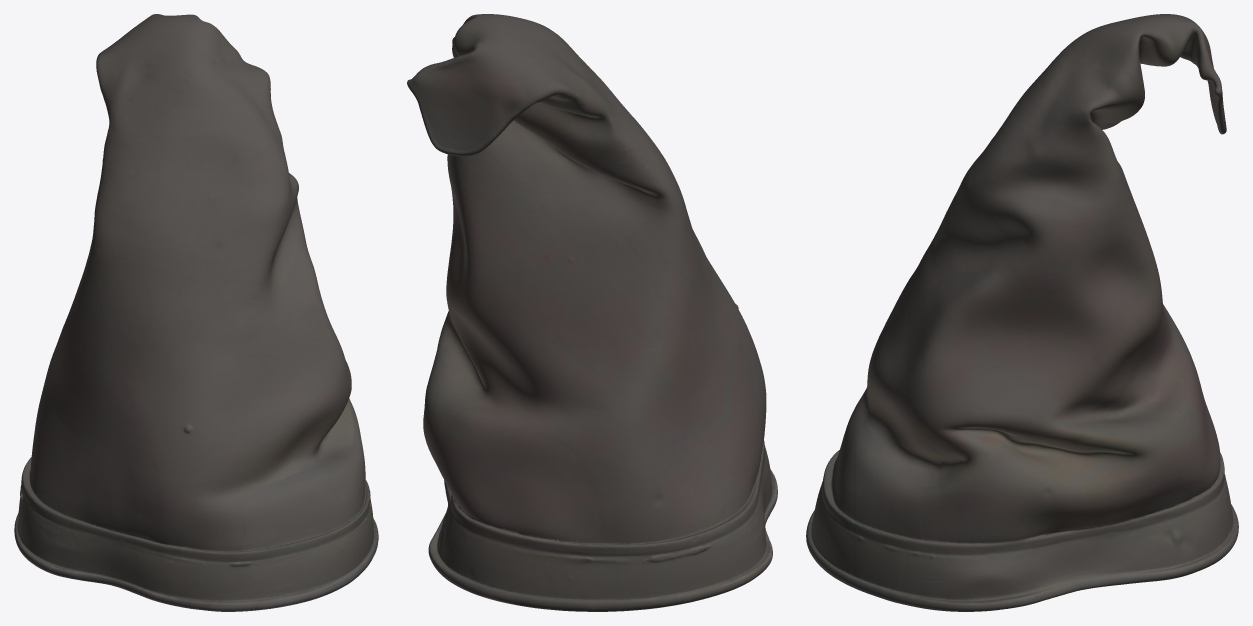
File: detailed_realistic_model_sorting_01.glb
3 renders of one model, left to right at view 1: azimuth 30°, elevation 25°; view 2: azimuth 150°, elevation 25°; view 3: azimuth 270°, elevation 25°, orthographic. The views are drawn at different scales.
Parts seen in each view (by area): view 1: tripo_node_a0660214-43f8-4424-a8af-e1320fcd1675; view 2: tripo_node_a0660214-43f8-4424-a8af-e1320fcd1675; view 3: tripo_node_a0660214-43f8-4424-a8af-e1320fcd1675.
Boxes of the visible parts, x1,y1,x2,y2 form: tripo_node_a0660214-43f8-4424-a8af-e1320fcd1675: [14, 14, 378, 611]; tripo_node_a0660214-43f8-4424-a8af-e1320fcd1675: [407, 14, 777, 611]; tripo_node_a0660214-43f8-4424-a8af-e1320fcd1675: [806, 14, 1238, 611].
Bounding box in the file's own units: 0.6643 × 1 × 0.7282.
Materials: 1 (1 with a texture image).
